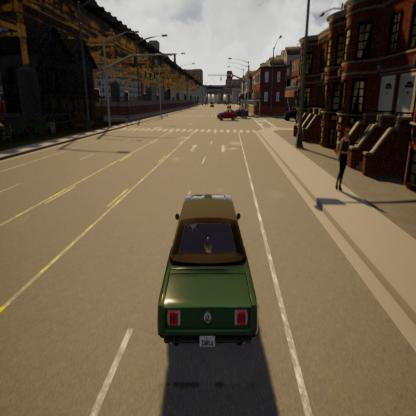Cars: (156, 193, 258, 353), (217, 107, 237, 123), (234, 104, 250, 120)
Pedestrian: (335, 126, 350, 190)
